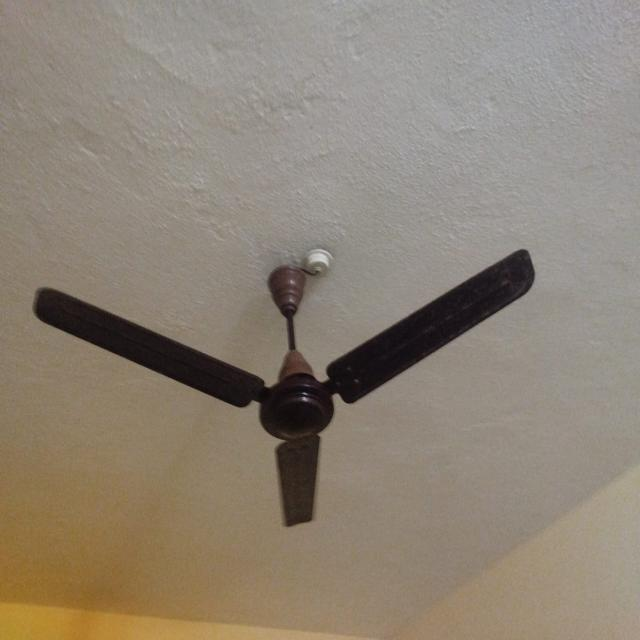fan_off: (34, 245, 547, 530)
